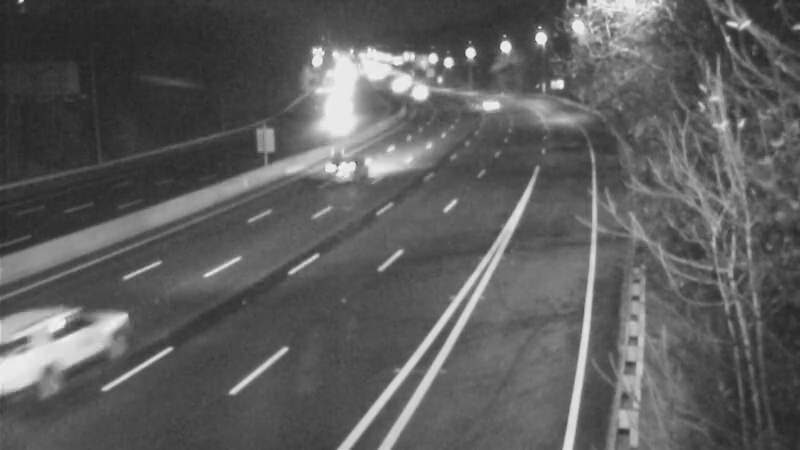vehicle: (1, 306, 101, 416), (303, 131, 383, 211), (466, 77, 516, 127), (306, 83, 356, 133)
